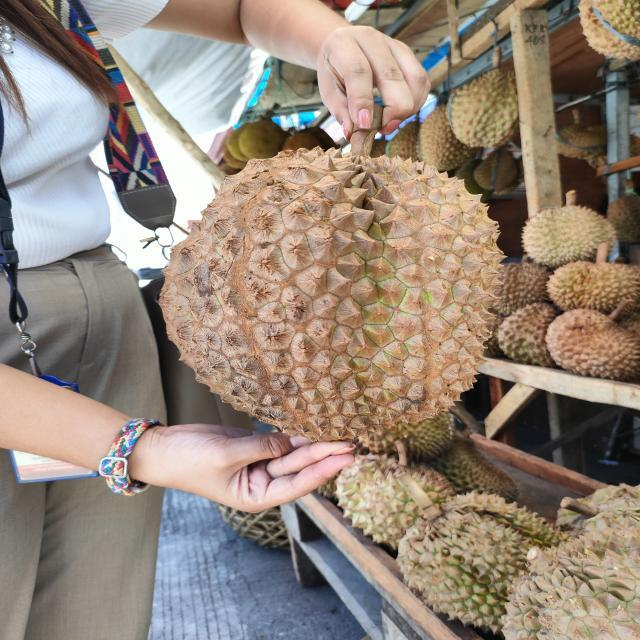mature: (153, 147, 507, 443)
